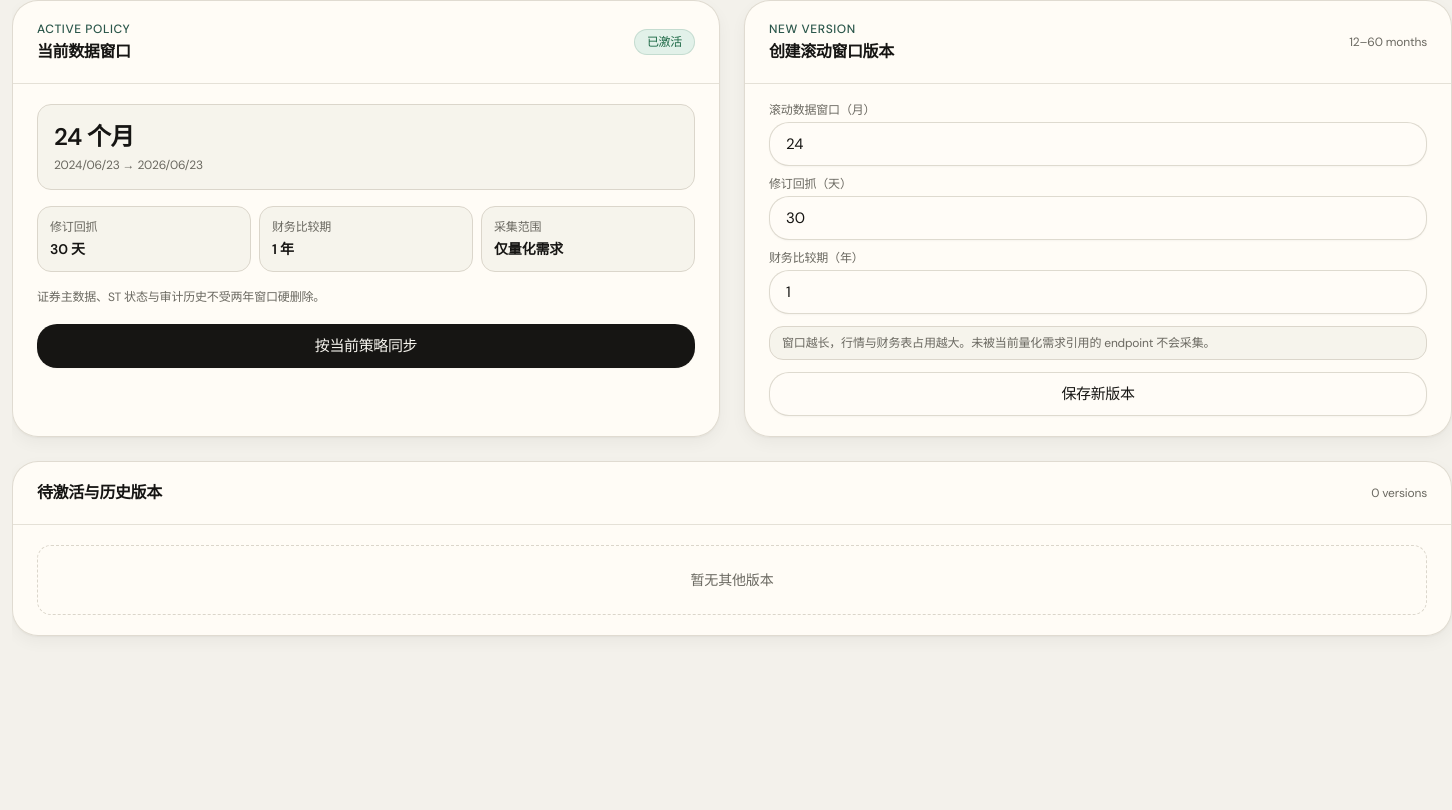
Test: data policy blocks invalid frontend window before request
Replace the text in the number field named "滚动数据窗口（月）" with "61" at (1098, 144), box [769,122,1427,166]
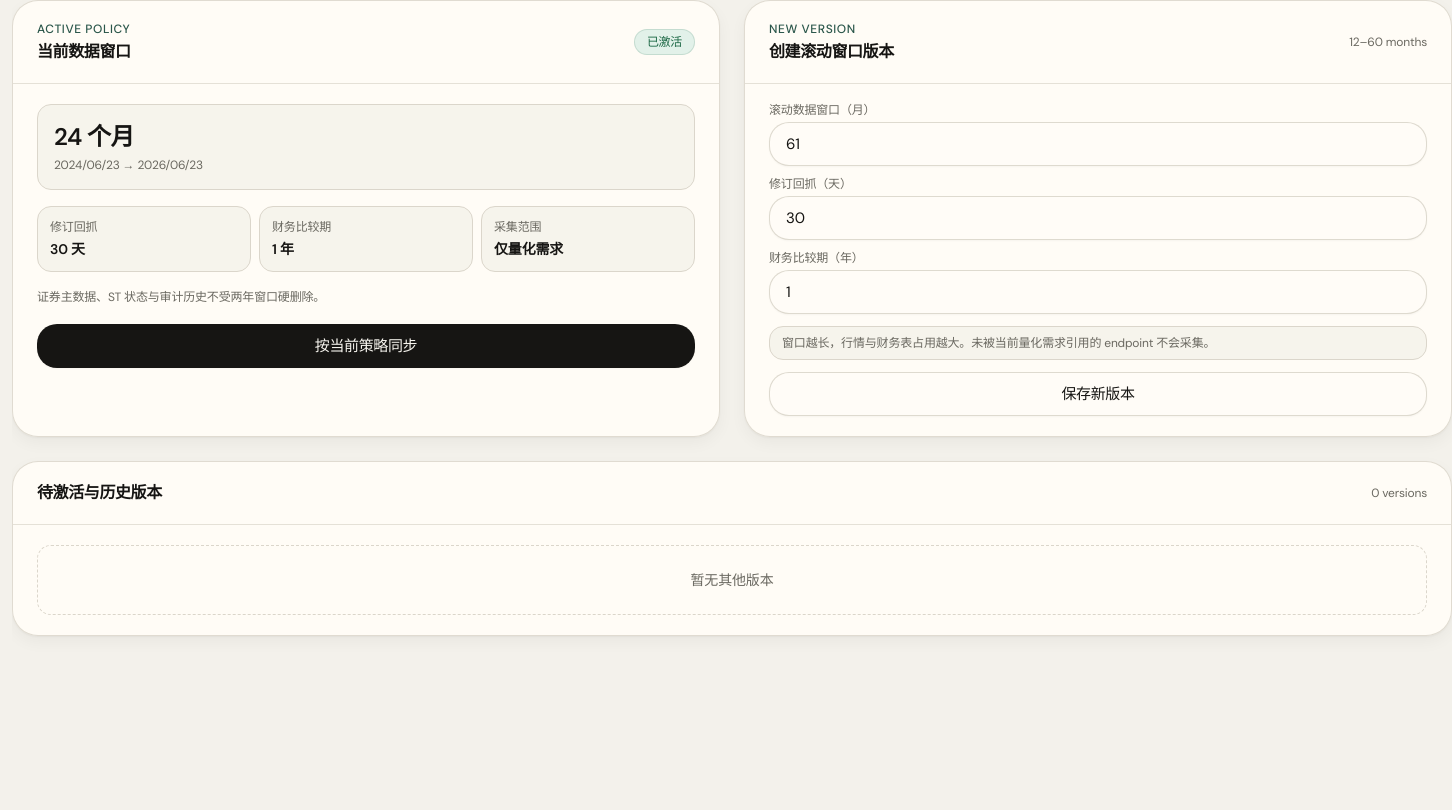
Click the button "保存新版本" at (1098, 394), box [769,372,1427,416]
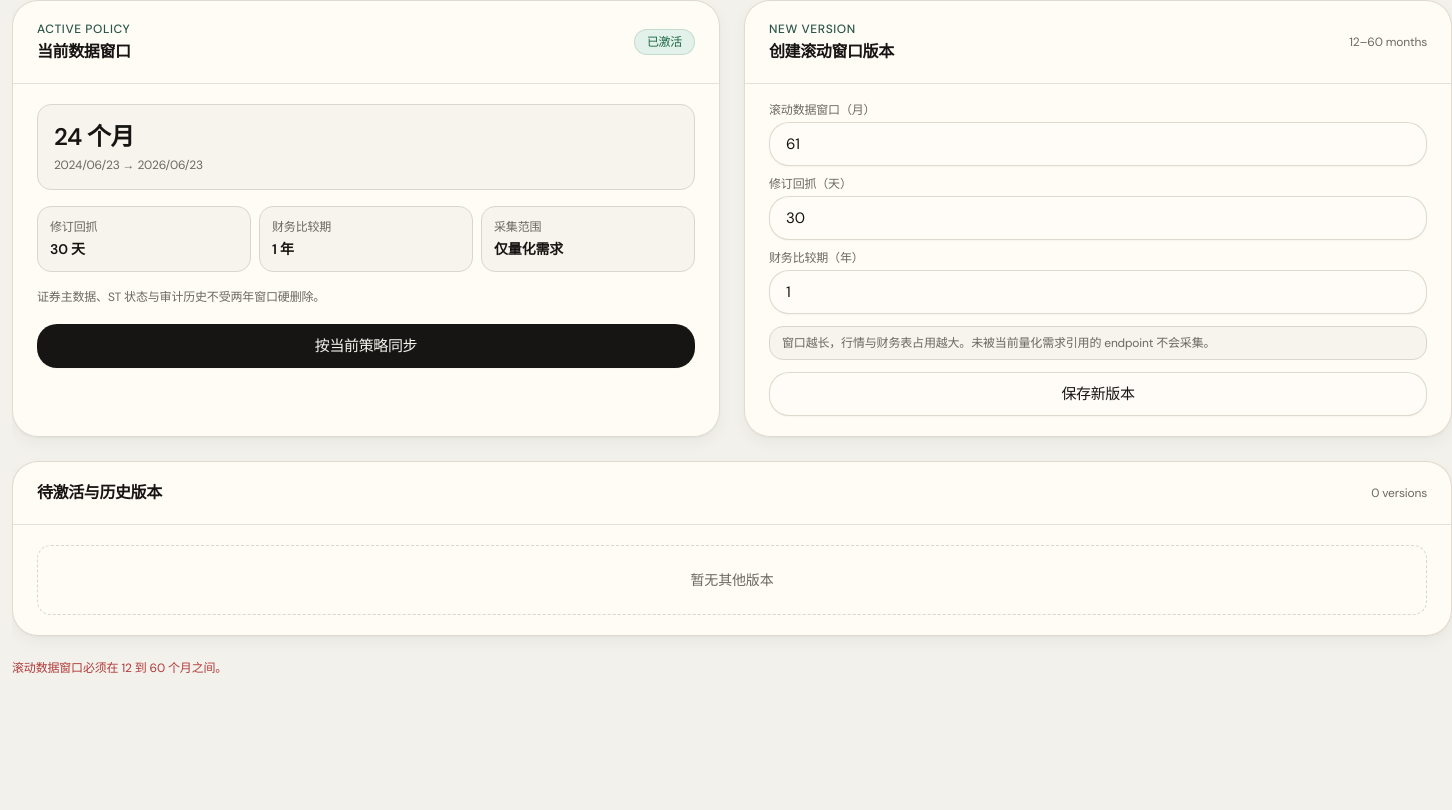
Check: the message shows "12 到 60 个月", box [12,660,227,676]
